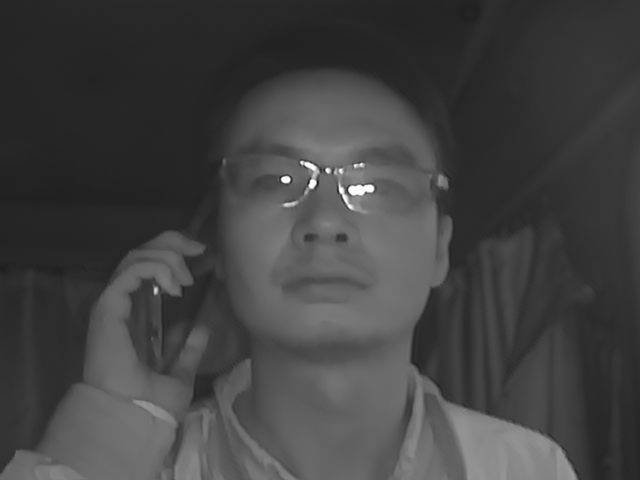hand: (79, 226, 217, 409)
